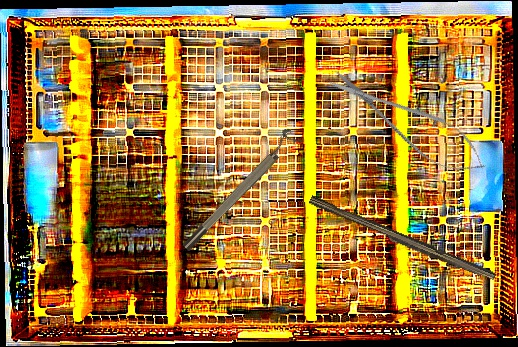Fixation Ring: (175, 126, 303, 254)
Micro Scissor: (318, 56, 497, 188)
Scalpel Handle: (306, 195, 498, 284)
